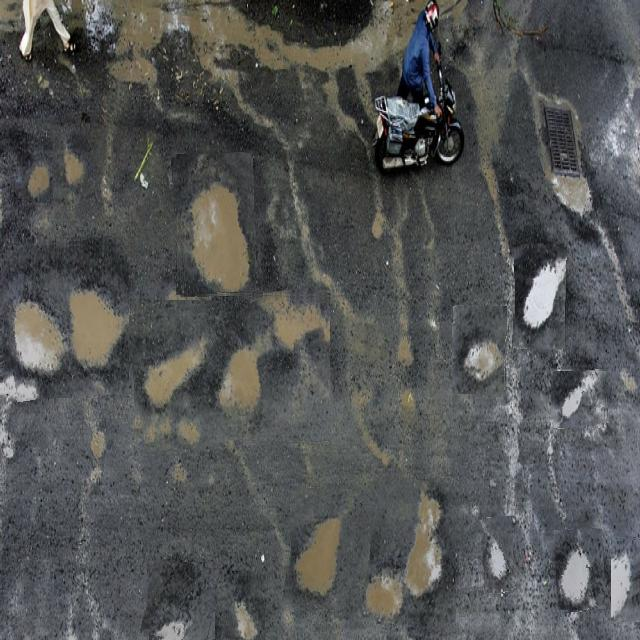Pothole: (129, 292, 335, 445), (0, 239, 135, 398), (363, 476, 459, 627), (174, 153, 254, 295), (285, 489, 372, 612), (144, 560, 217, 640), (513, 245, 566, 349), (452, 306, 507, 394), (550, 528, 606, 612), (551, 369, 608, 428), (53, 131, 91, 211), (478, 516, 516, 594), (225, 571, 265, 640), (611, 537, 640, 622), (16, 153, 50, 202)
